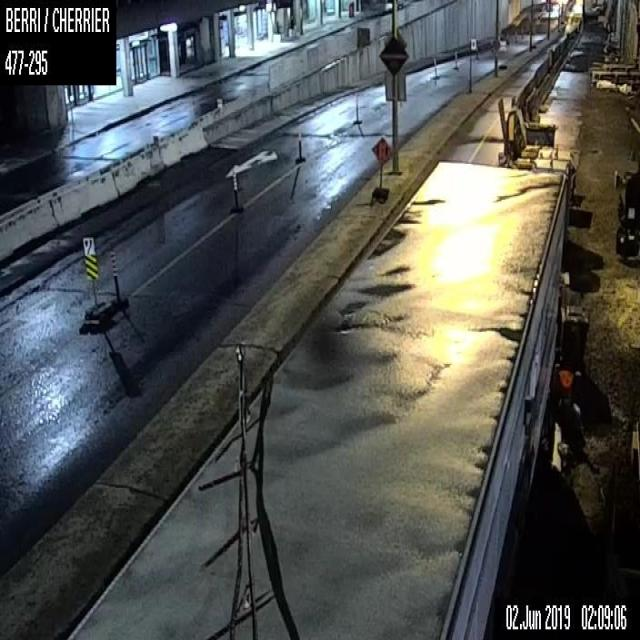construction: (371, 136, 392, 197), (107, 248, 122, 305), (232, 166, 238, 206), (296, 129, 301, 159), (433, 55, 437, 76), (355, 94, 358, 122), (454, 49, 457, 67), (475, 45, 478, 60)
vehicle: (614, 168, 639, 254)
